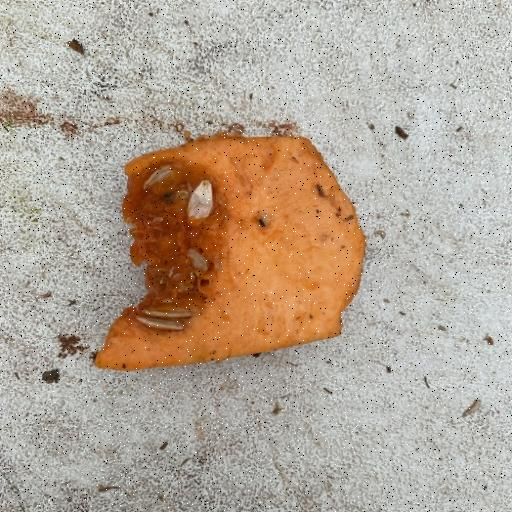Waste: (92, 130, 368, 372)
